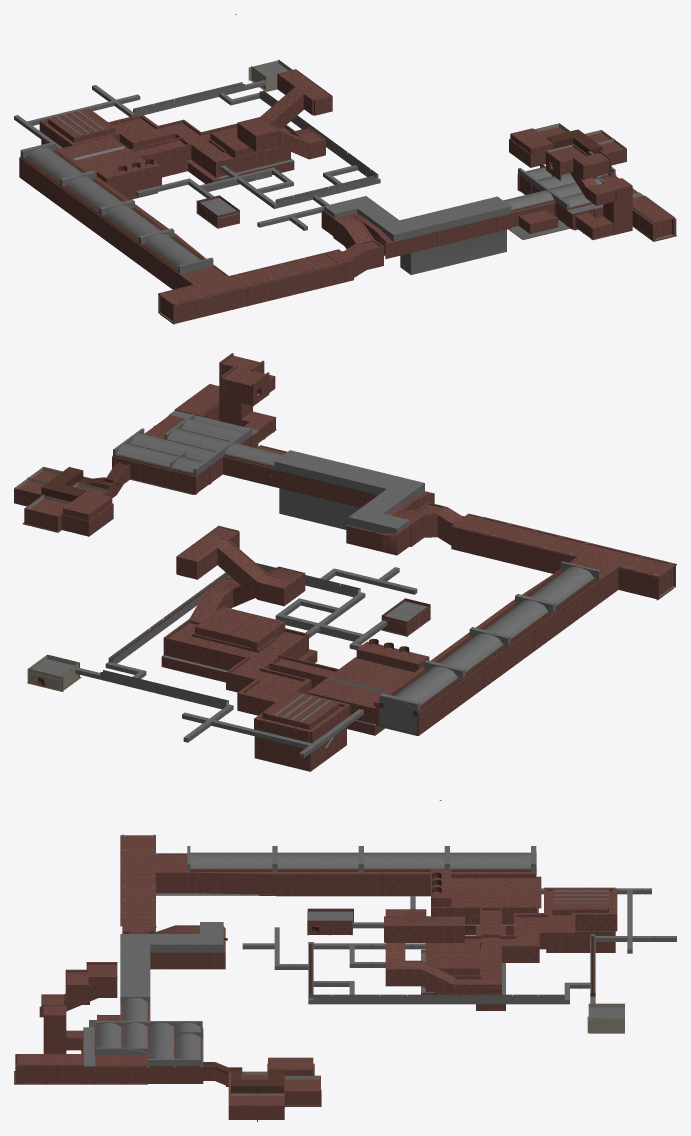
File: GroundFloor.fbx
3 renders of one model, top to bottom at view 1: azimuth 30°, elevation 25°; view 2: azimuth 150°, elevation 25°; view 3: azimuth 270°, elevation 25°, orthographic. The views are drawn at different scales.
Parts seen in each view (by area): view 1: Куб.001, Куб.1102, Cube.036, Куб.1103; view 2: Куб.001, Куб.1102, Cube.036, Куб.1103; view 3: Куб.001, Куб.1102, Cube.036, Куб.1103, Cylinder.009.
Part boxes in pixels (x1,y1,x2,y2): Куб.001: (19,14,383,324); Куб.1102: (321,123,676,274); Cube.036: (14,59,380,230); Куб.1103: (546,144,632,240); Куб.001: (161,475,676,771); Куб.1102: (14,384,434,555); Cube.036: (27,563,430,757); Куб.1103: (219,353,276,442); Куб.001: (120,800,617,1010); Куб.1102: (14,922,321,1121); Cube.036: (242,888,676,1033); Куб.1103: (39,962,117,1053); Cylinder.009: (309,935,594,998).
Bounding box in the file's own units: 22161 × 7211 × 23067.
